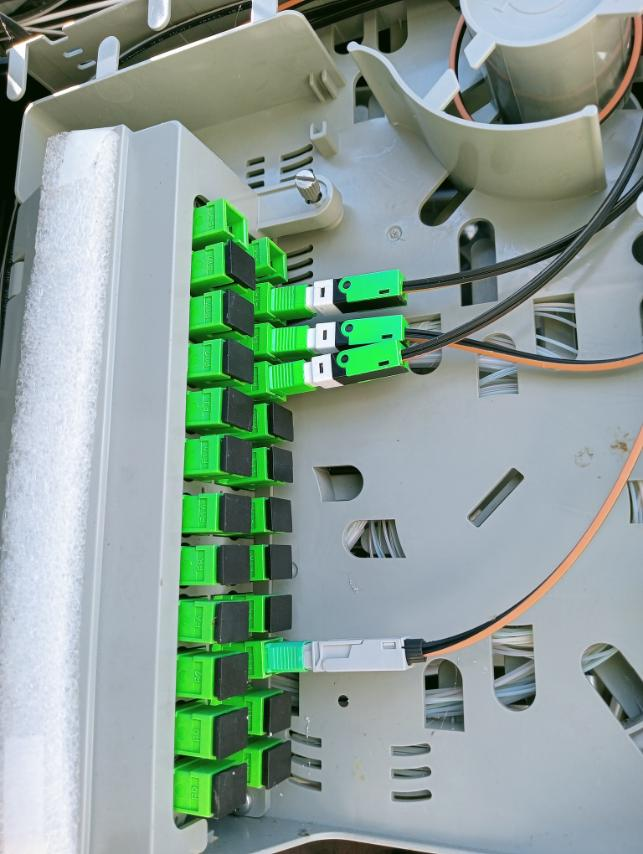no dust cap: (224, 202, 248, 249), (267, 239, 288, 281)
occupied: (268, 336, 413, 397), (270, 267, 412, 316), (268, 314, 416, 359), (267, 635, 432, 675)
vacant: (213, 763, 247, 820), (216, 707, 248, 760), (224, 290, 256, 339), (228, 239, 257, 293), (222, 387, 254, 434), (219, 652, 249, 702), (225, 337, 255, 386), (218, 600, 250, 644), (264, 741, 291, 790), (220, 545, 251, 586), (225, 434, 253, 478), (222, 494, 253, 533), (267, 693, 293, 736), (271, 401, 295, 443), (269, 593, 293, 633), (270, 544, 293, 581), (271, 447, 294, 482), (270, 497, 292, 533)
